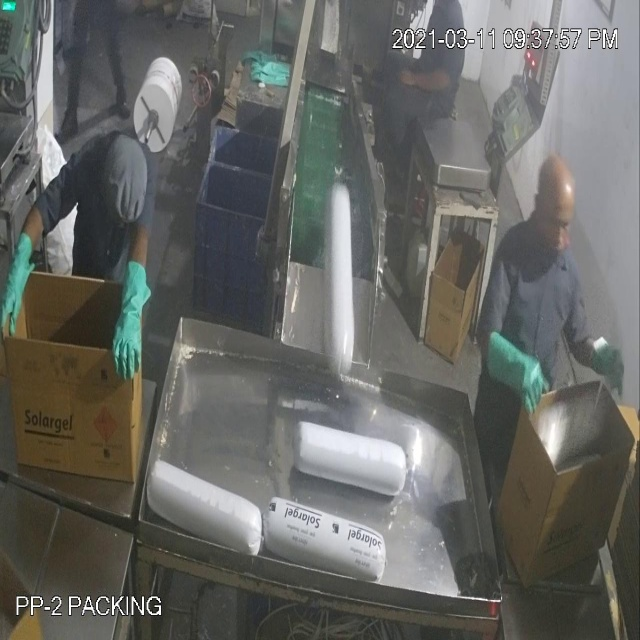Guantes: (105, 255, 160, 393), (485, 326, 546, 420), (0, 222, 34, 348), (586, 326, 637, 402)
Sin_guantes: (393, 60, 459, 100)
